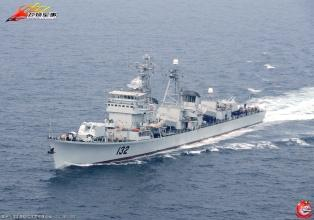warship: (47, 50, 269, 167)
